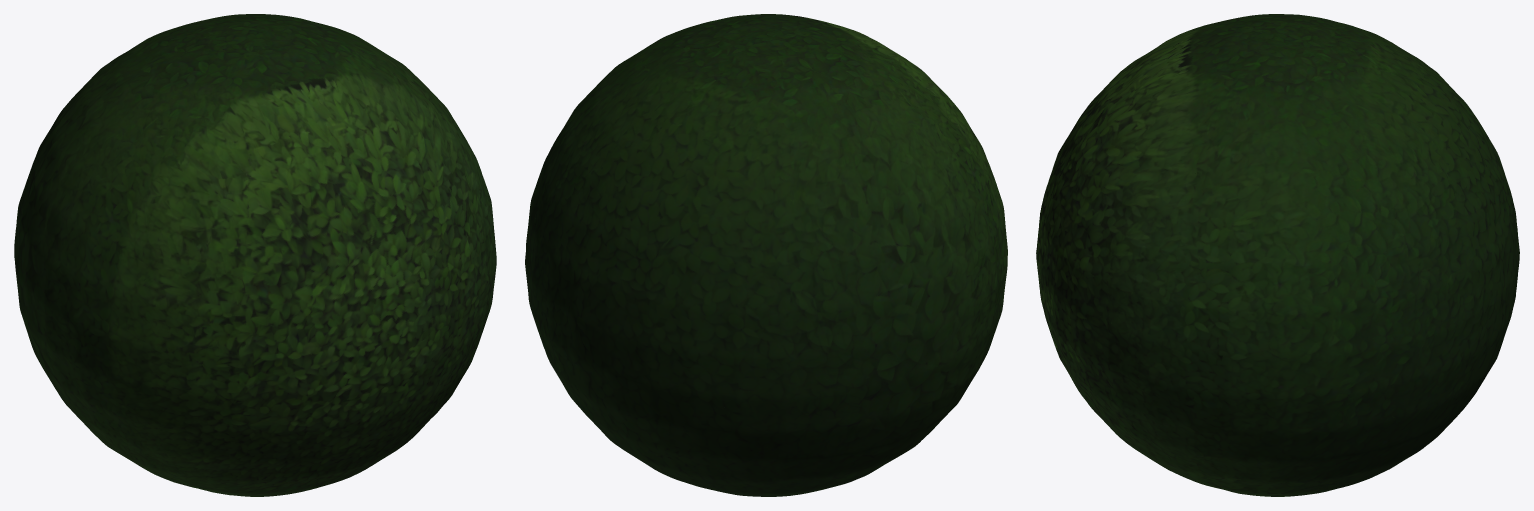
The model's file is AI_RoundBush.fbx.
The picture shows the model from 3 angles, left to right: view 1: azimuth 30°, elevation 25°; view 2: azimuth 150°, elevation 25°; view 3: azimuth 270°, elevation 25°; orthographic projection.
Parts seen in each view (by area): view 1: Mesh1; view 2: Mesh1; view 3: Mesh1.
Boxes of the visible parts, x1,y1,x2,y2 form: Mesh1: [14, 14, 496, 496]; Mesh1: [525, 14, 1007, 496]; Mesh1: [1036, 14, 1519, 496].
Size of the model in its own units: 200 by 199 by 200.
Materials: 1 (1 with a texture image).
